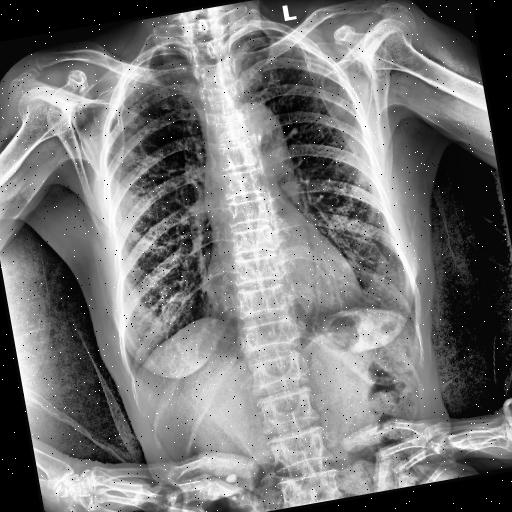0- Aortic enlargement: (235, 98, 294, 192), (233, 98, 294, 180), (229, 94, 291, 168)
11- Pleural thickening: (116, 58, 151, 87), (118, 66, 141, 92), (120, 68, 142, 88)
13- Pulmonary fibrosis: (130, 75, 178, 125)
5- ILD: (106, 198, 193, 344), (330, 176, 402, 302)
